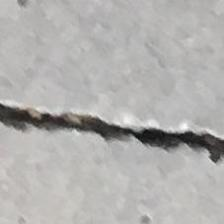Crack: (0, 90, 224, 176)
